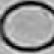no answer: (1, 1, 54, 52)
